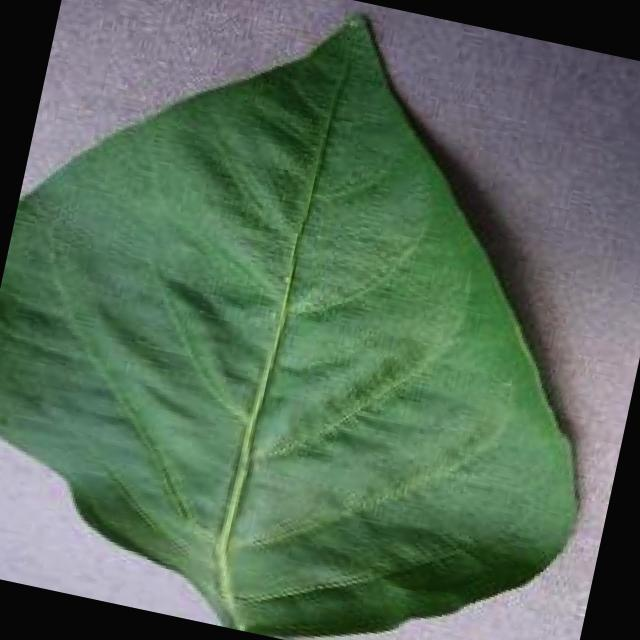Leaf: (0, 19, 607, 640)
